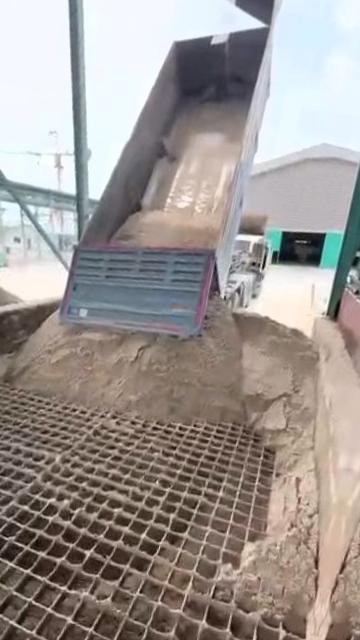sand: (10, 299, 317, 619), (113, 98, 249, 248), (0, 269, 17, 311), (0, 354, 14, 389)
